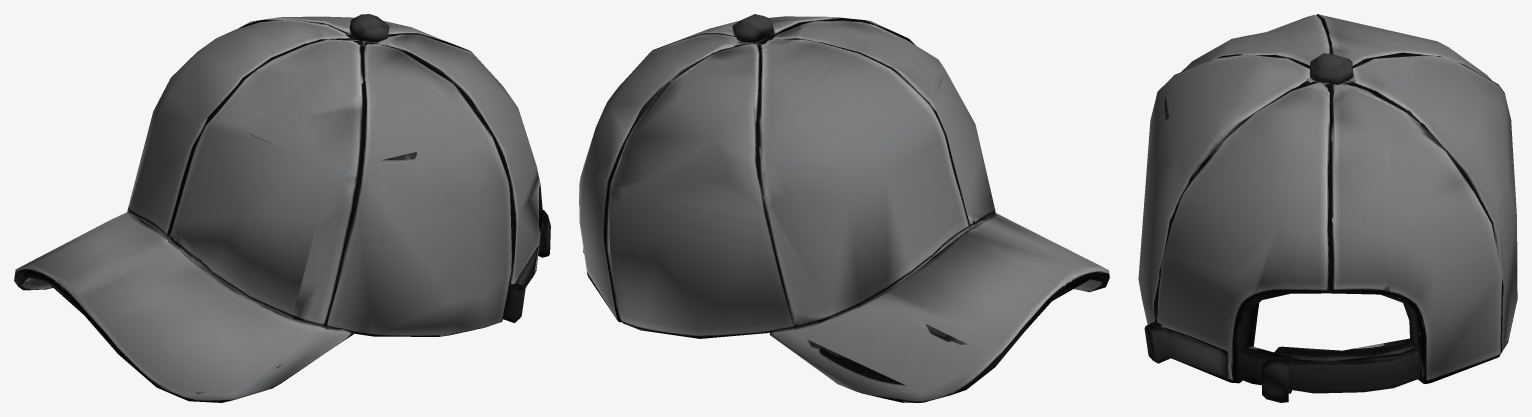
The model's file is tourist_acc_cap.glb.
3 renders of one model, left to right at view 1: azimuth 30°, elevation 25°; view 2: azimuth 150°, elevation 25°; view 3: azimuth 270°, elevation 25°, orthographic. The views are drawn at different scales.
Visible parts, largest first — view 1: tripo_node_9ccab361-2826-487e-afe6-5b608be32990; view 2: tripo_node_9ccab361-2826-487e-afe6-5b608be32990; view 3: tripo_node_9ccab361-2826-487e-afe6-5b608be32990.
Part boxes in pixels (<box>): tripo_node_9ccab361-2826-487e-afe6-5b608be32990: <box>14,14,550,402</box>; tripo_node_9ccab361-2826-487e-afe6-5b608be32990: <box>579,14,1109,402</box>; tripo_node_9ccab361-2826-487e-afe6-5b608be32990: <box>1138,14,1517,402</box>.
Size of the model in its own units: 0.9995 by 0.5562 by 0.6689.
1 material, 1 textured.
